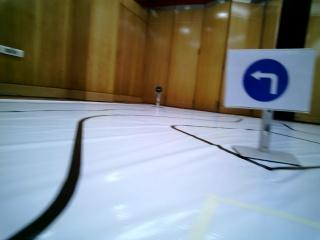left: (230, 45, 313, 114)
